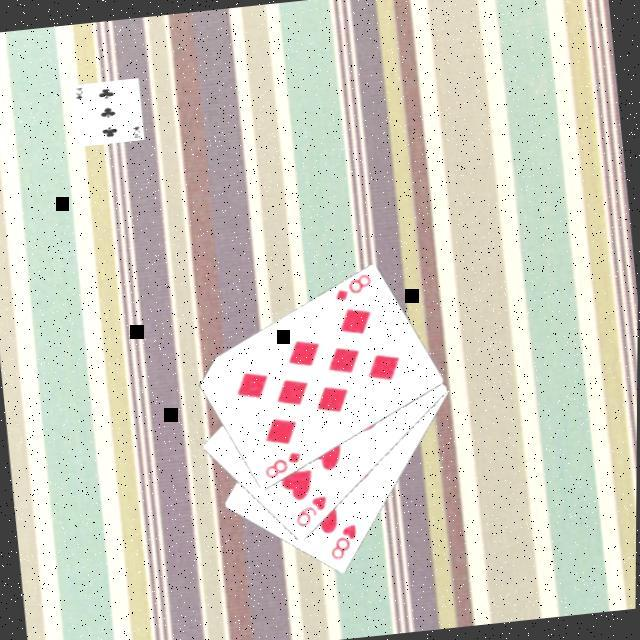8D: (260, 446, 306, 482), (328, 270, 374, 304)
8H: (324, 520, 362, 563)
9H: (290, 490, 332, 530)
